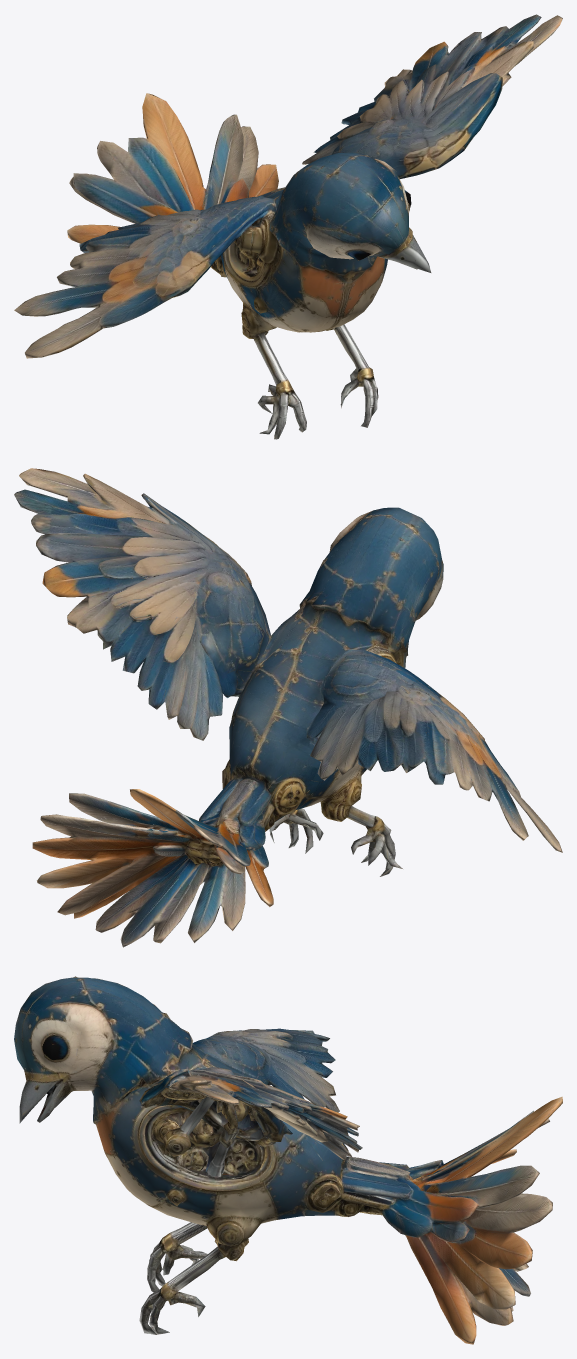
The model's file is bird.glb.
The picture shows the model from 3 angles, top to bottom: view 1: azimuth 30°, elevation 25°; view 2: azimuth 150°, elevation 25°; view 3: azimuth 270°, elevation 25°; orthographic projection. The views are drawn at different scales.
Parts seen in each view (by area): view 1: Mesh1.0; view 2: Mesh1.0; view 3: Mesh1.0.
Part boxes in pixels (<box>): Mesh1.0: <box>14,14,562,439</box>; Mesh1.0: <box>14,468,562,947</box>; Mesh1.0: <box>14,976,562,1344</box>.
Size of the model in its own units: 2.32 by 1.39 by 1.92.
Materials: 1 (1 with a texture image).
